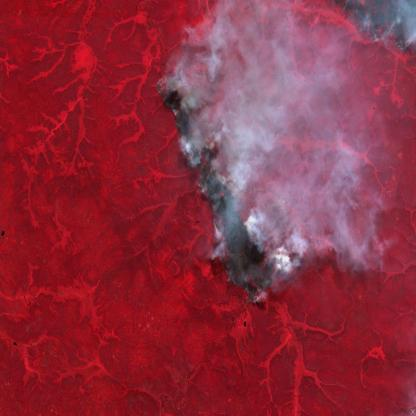fire: (157, 68, 301, 314), (338, 0, 415, 51)
